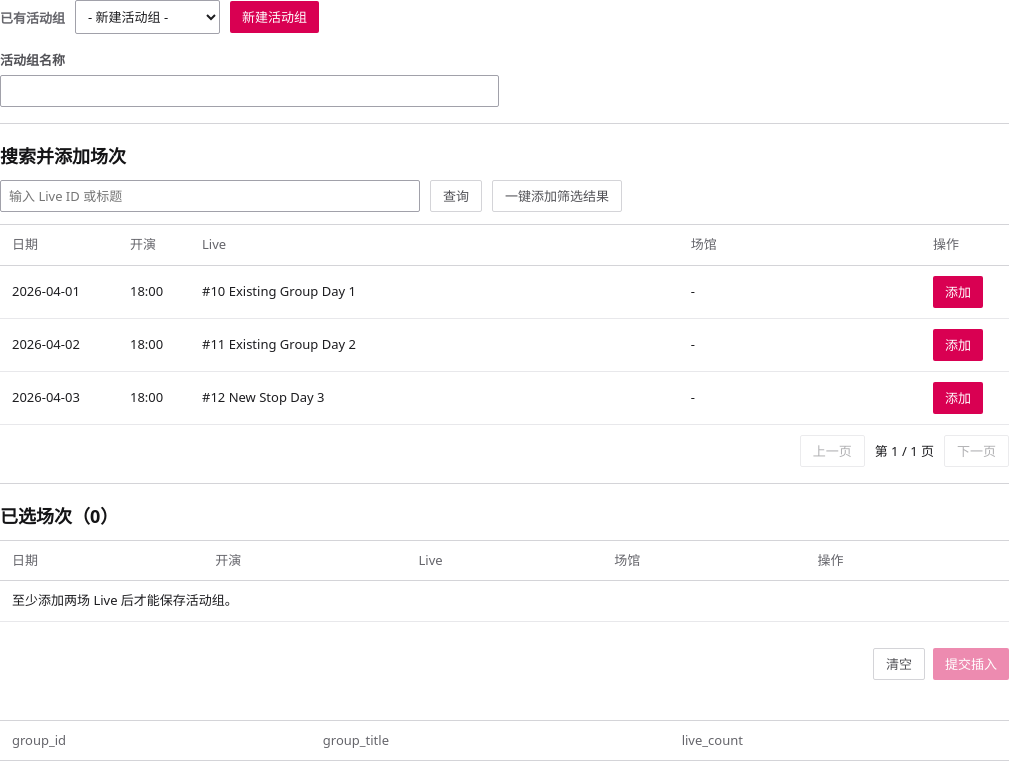
Test: PerformanceGroupAdminSection › updates group with full target set replacement
The image size is (1024, 768).
Select "#1 Update Target" in the dropdown labelled "已有活动组": (148, 17) [75,0,220,34]
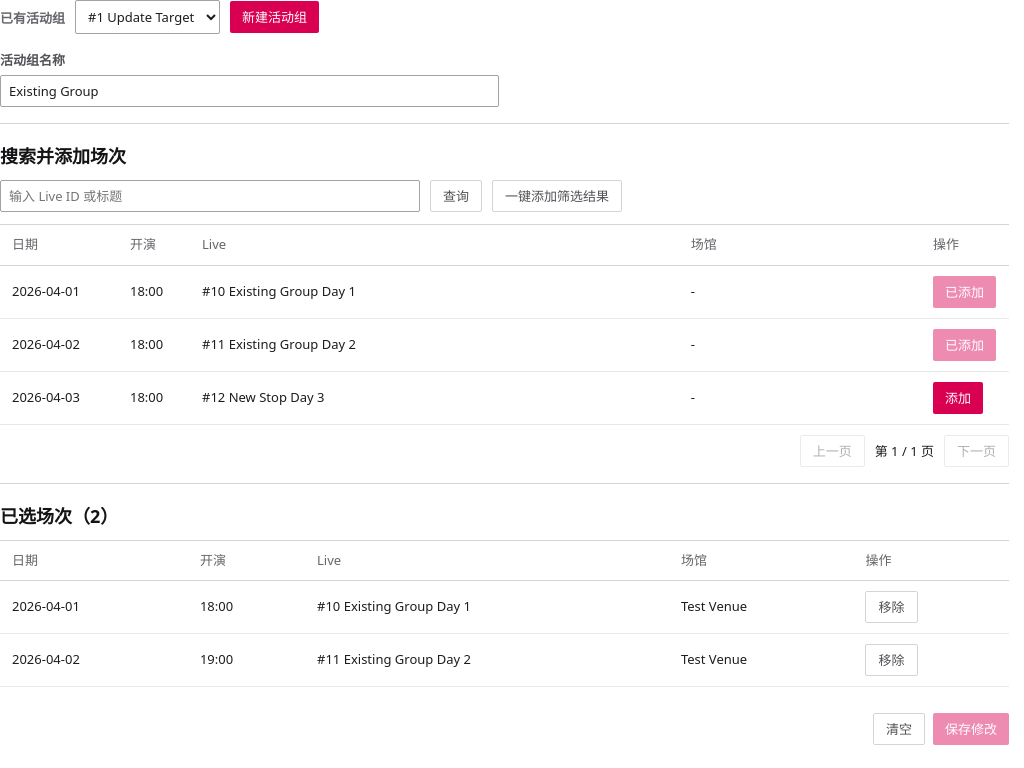
Expected: the button "保存修改" is disabled, [933,713,1009,745]
Expected: the field labelled "活动组名称" holds "Existing Group"
Replace the text in the field labelled "活动组名称" with "Updated Group": (249, 91) [0,75,498,107]
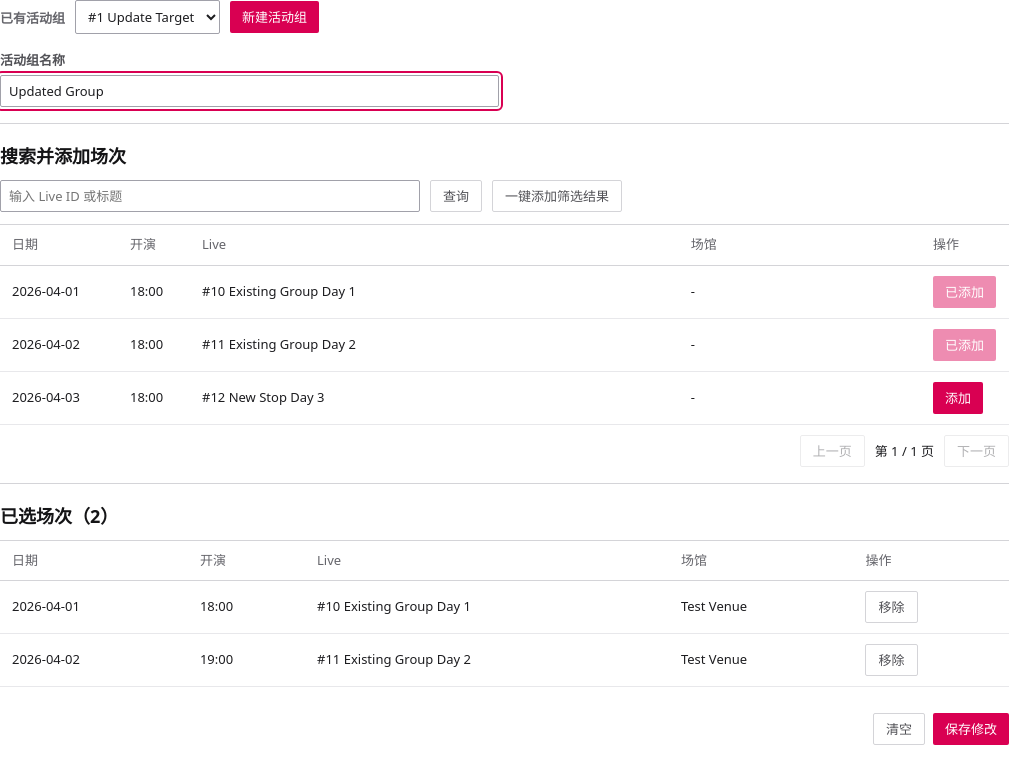
Click the button "添加": (958, 398) [933,382,983,414]
(page scrolled)
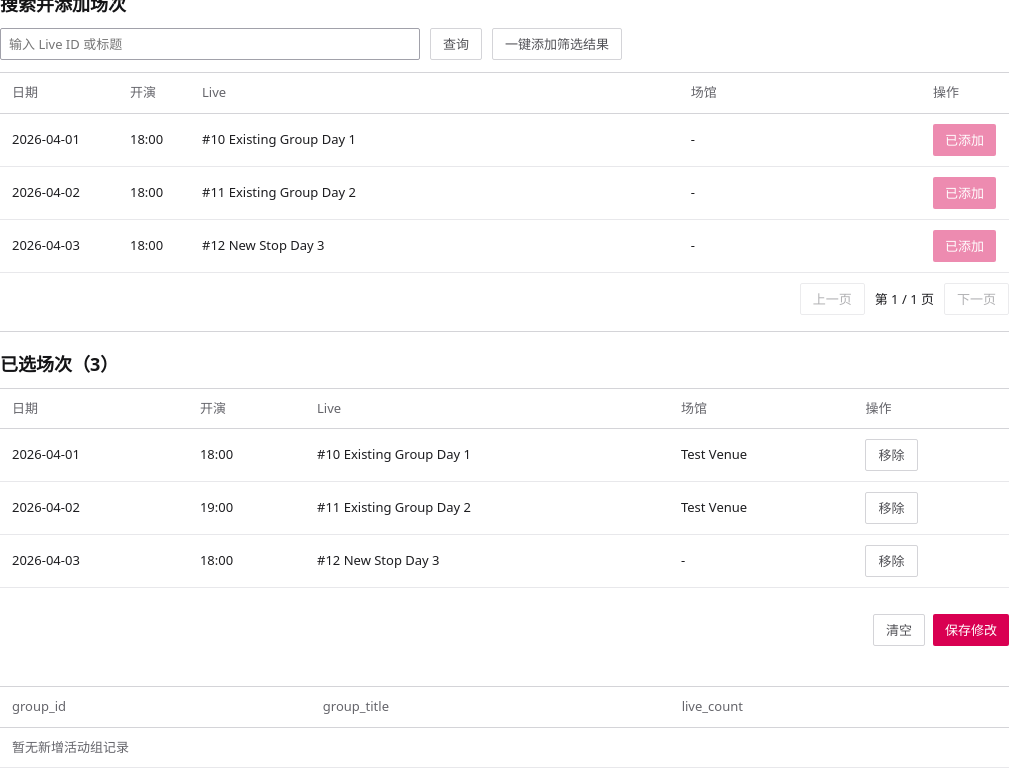
Click the button "保存修改": (971, 630) [933,614,1009,646]
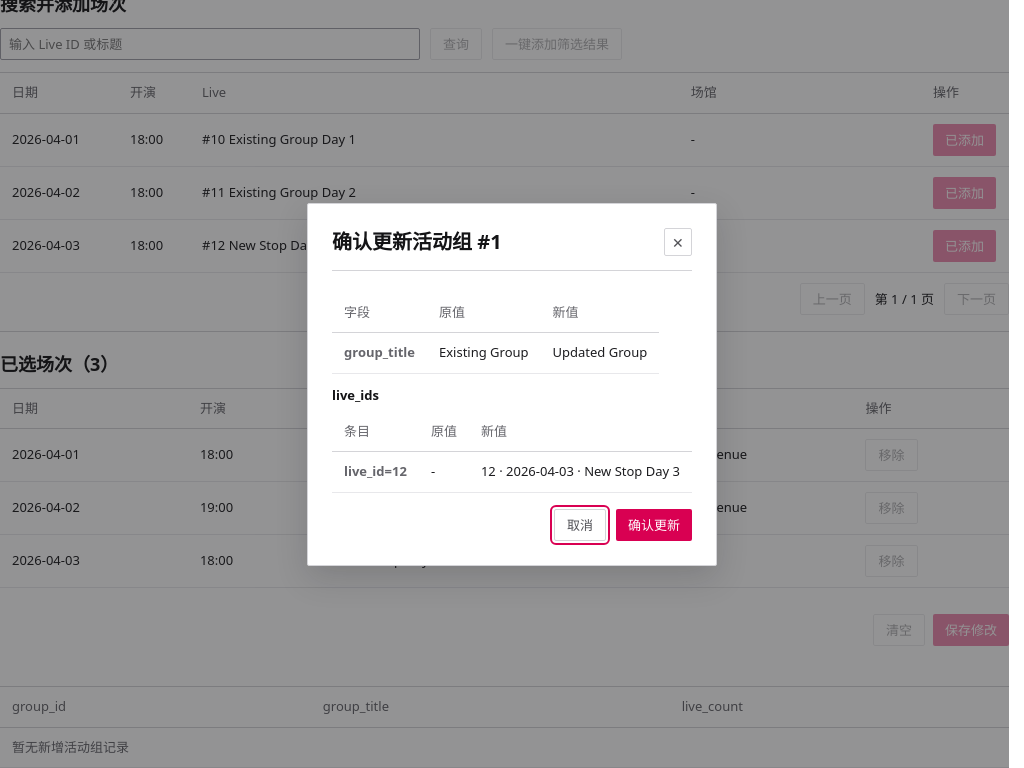
Expected: the column heading "group_title" is shown, [332,332,427,373]
Expected: the table named "活动组修改内容 · live_ids" shows "New Stop Day 3", [481,462,680,480]
Click the button "确认更新": (654, 524) [616,508,692,540]
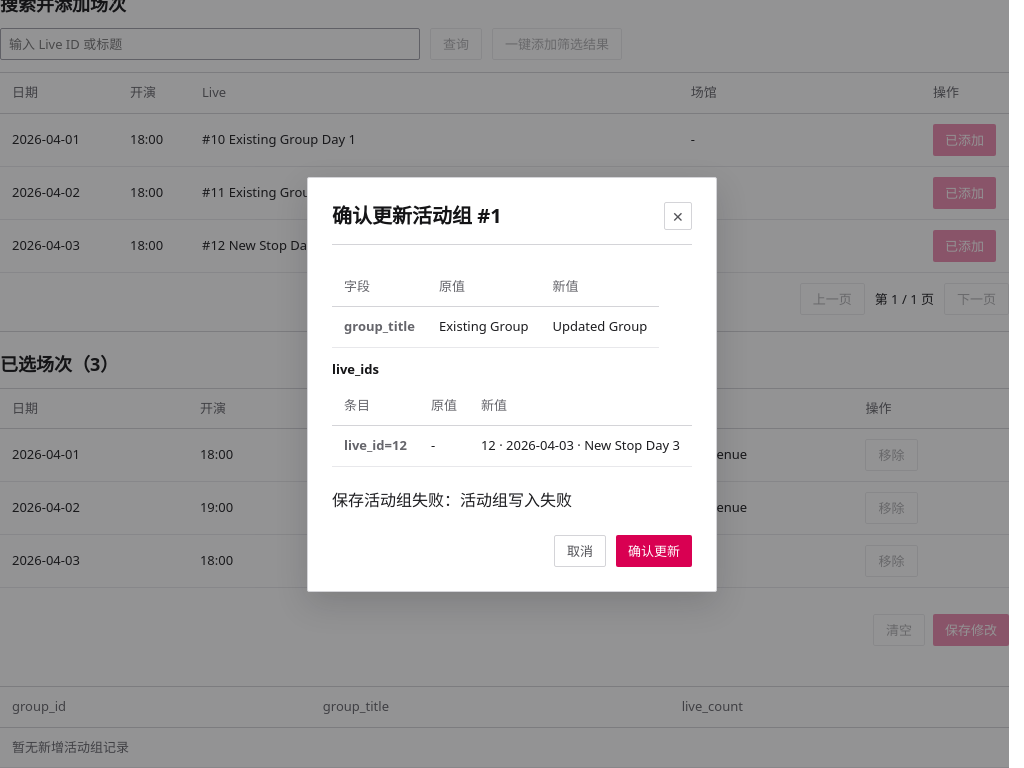
Expected: the table named "活动组修改内容" shows "Updated Group", [553,317,647,335]
Expected: the message shows "活动组写入失败", [332,488,572,510]
Click the button "确认更新": (654, 550) [616,534,692,566]
(page scrolled)
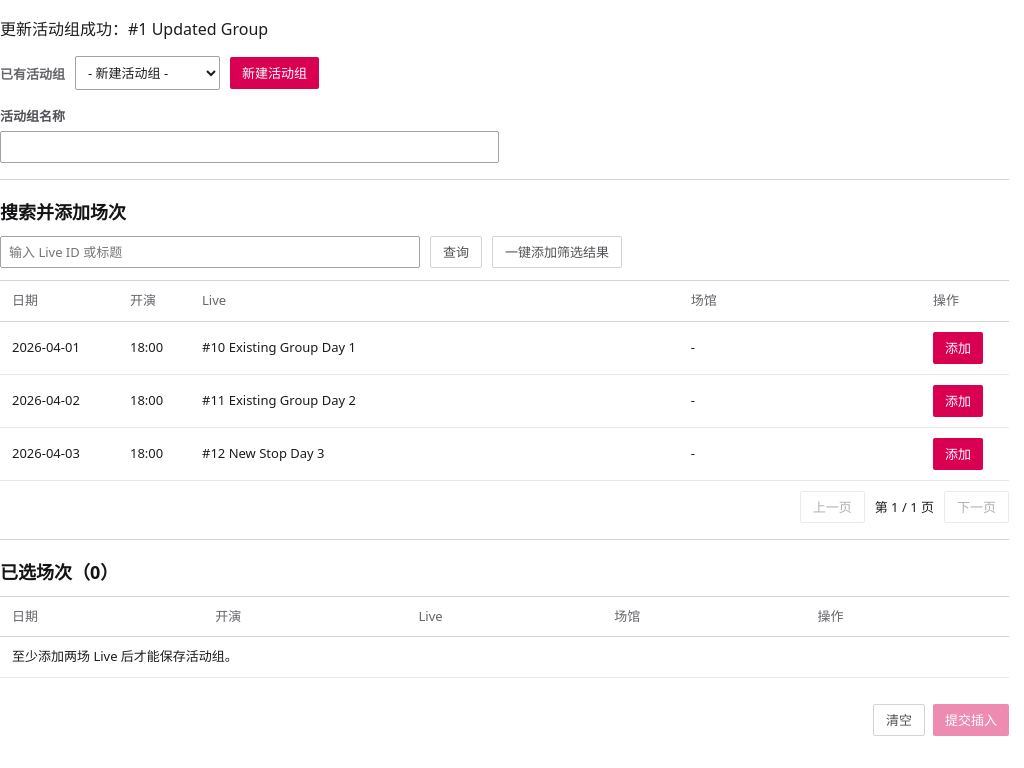
Expected: the text "更新活动组成功：#1 Updated Group" is shown, [0,18,268,40]
